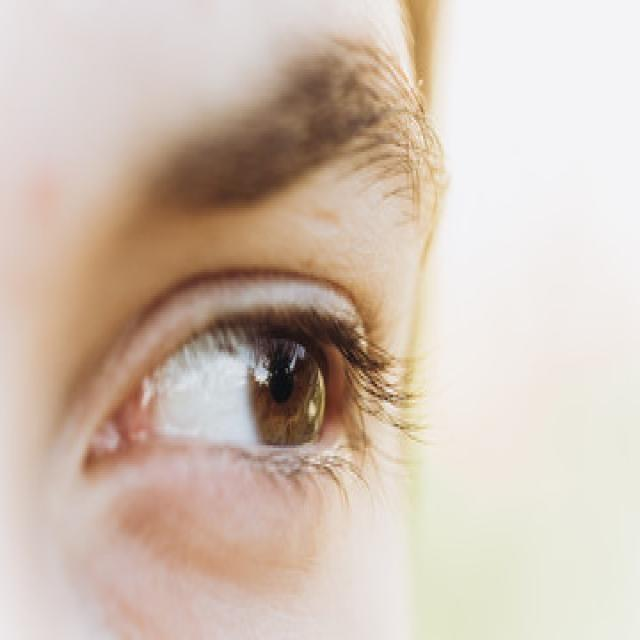Normal: (1, 177, 447, 594)
